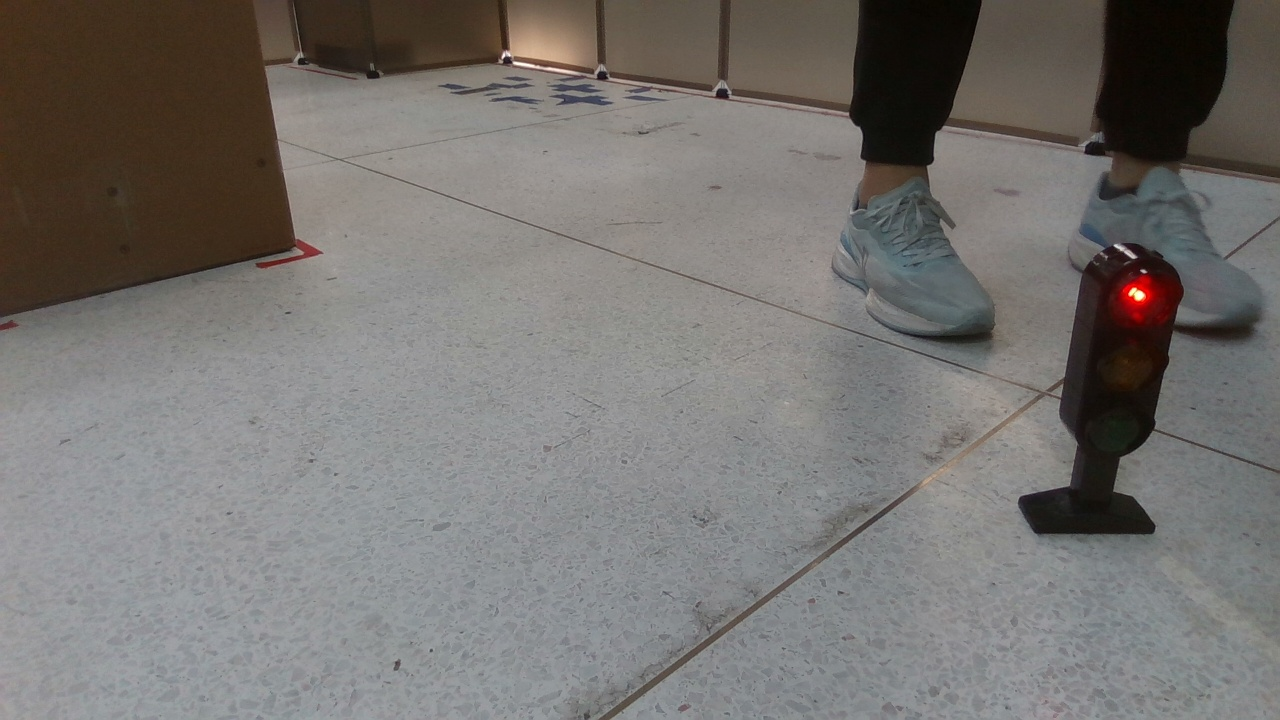Red traffic light: (1015, 231, 1188, 542)
